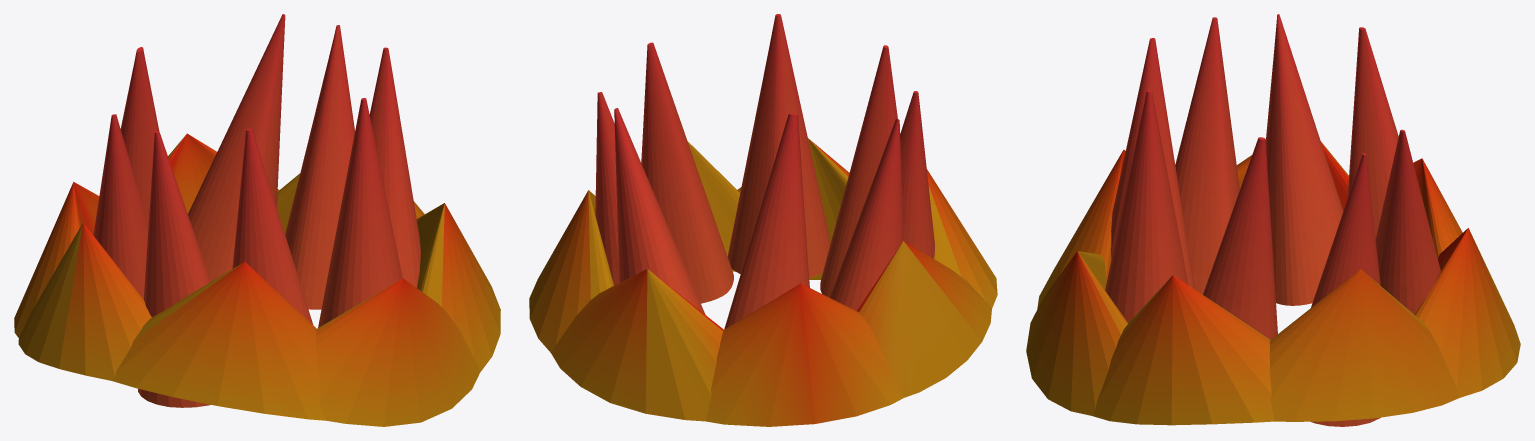
Rendered from Damag.fbx.
3 views of the same model, side by side, from view 1: azimuth 30°, elevation 25°; view 2: azimuth 150°, elevation 25°; view 3: azimuth 270°, elevation 25° (orthographic). The views are drawn at different scales.
Parts seen in each view (by area): view 1: Cone, Cylinder; view 2: Cone, Cylinder; view 3: Cone, Cylinder.
Boxes of the visible parts, <box> form: Cone: <box>14,133,500,426</box>; Cylinder: <box>93,14,420,407</box>; Cone: <box>529,138,997,426</box>; Cylinder: <box>595,14,934,329</box>; Cone: <box>1026,141,1520,425</box>; Cylinder: <box>1105,14,1440,426</box>.
Bounding box in the file's own units: 912 × 592 × 905.
